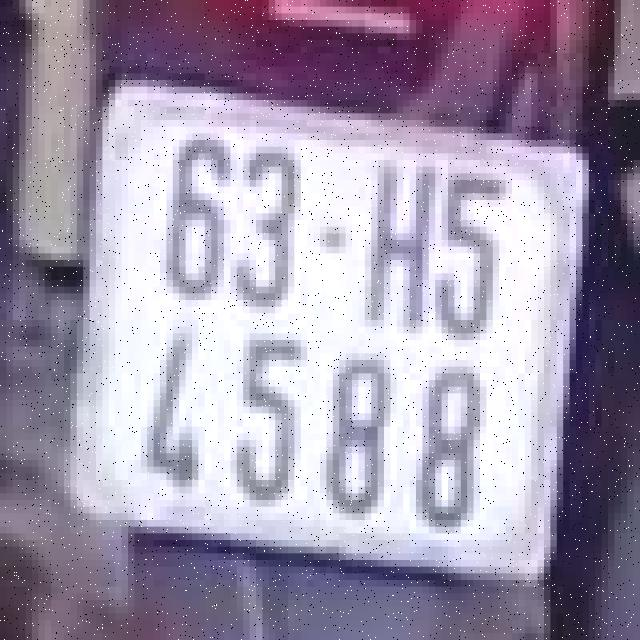3: (240, 150, 298, 310)
4: (153, 330, 204, 497)
5: (429, 164, 512, 344), (234, 337, 298, 503)
6: (166, 130, 224, 303)
8: (413, 360, 483, 533), (323, 360, 394, 520)
H: (371, 154, 429, 334)
